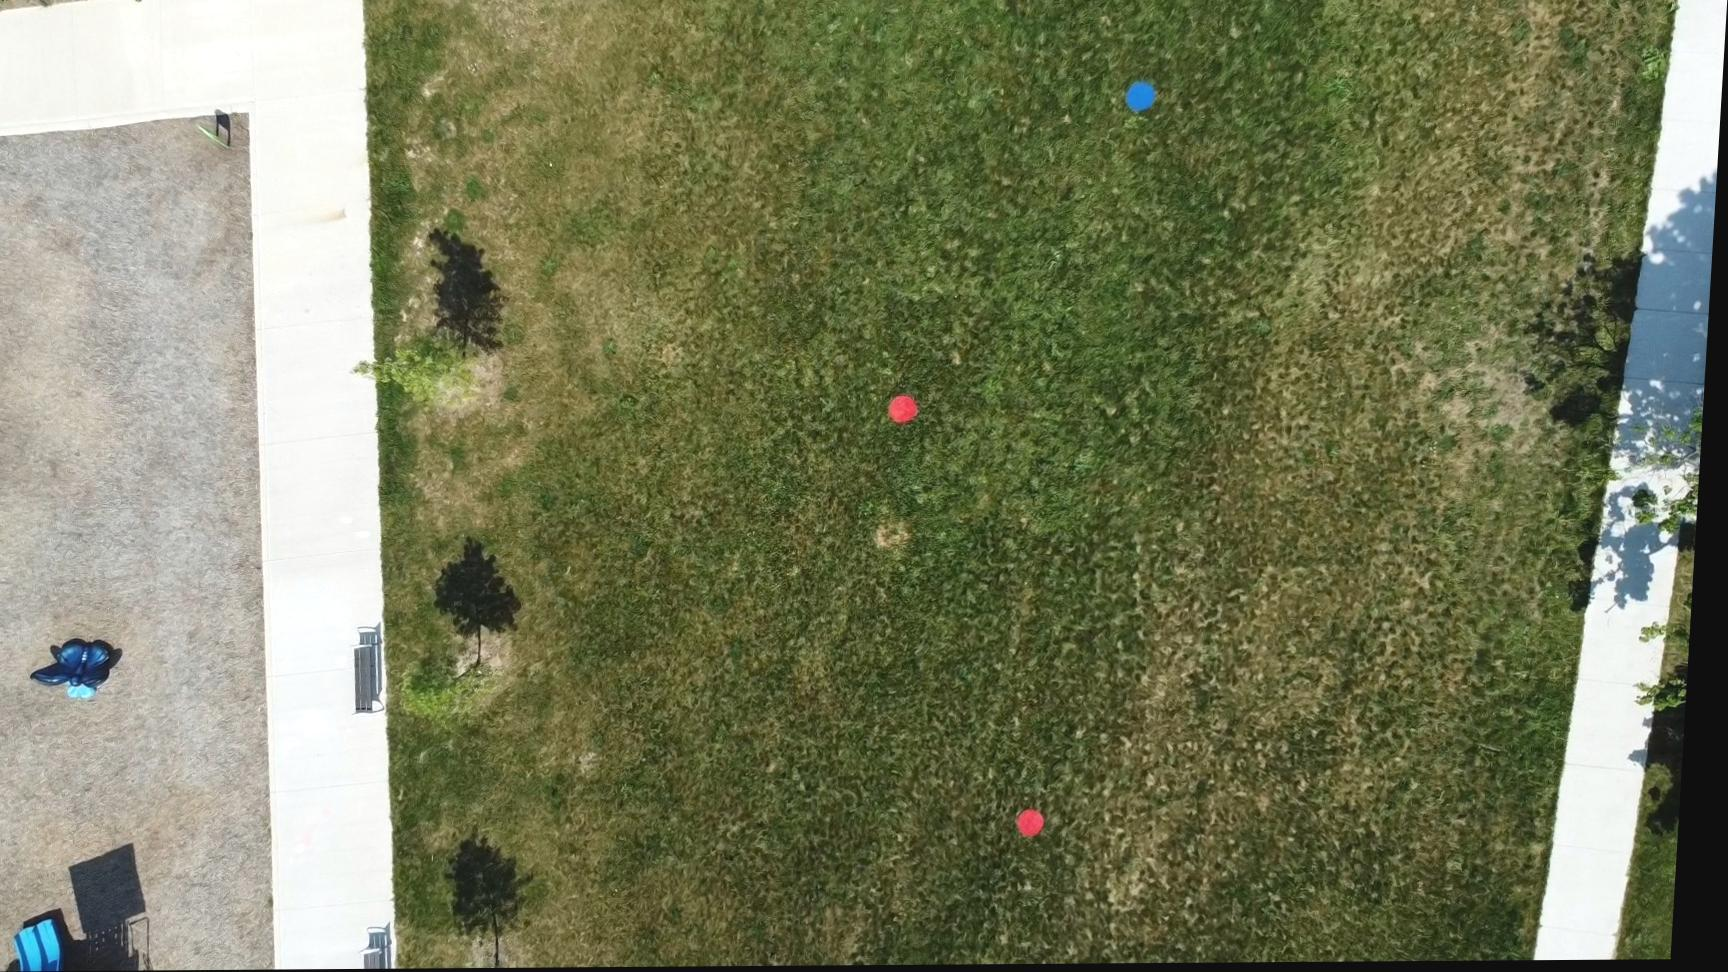Blue: (1126, 84, 1158, 115)
Red: (891, 395, 926, 427), (1024, 808, 1057, 839)
